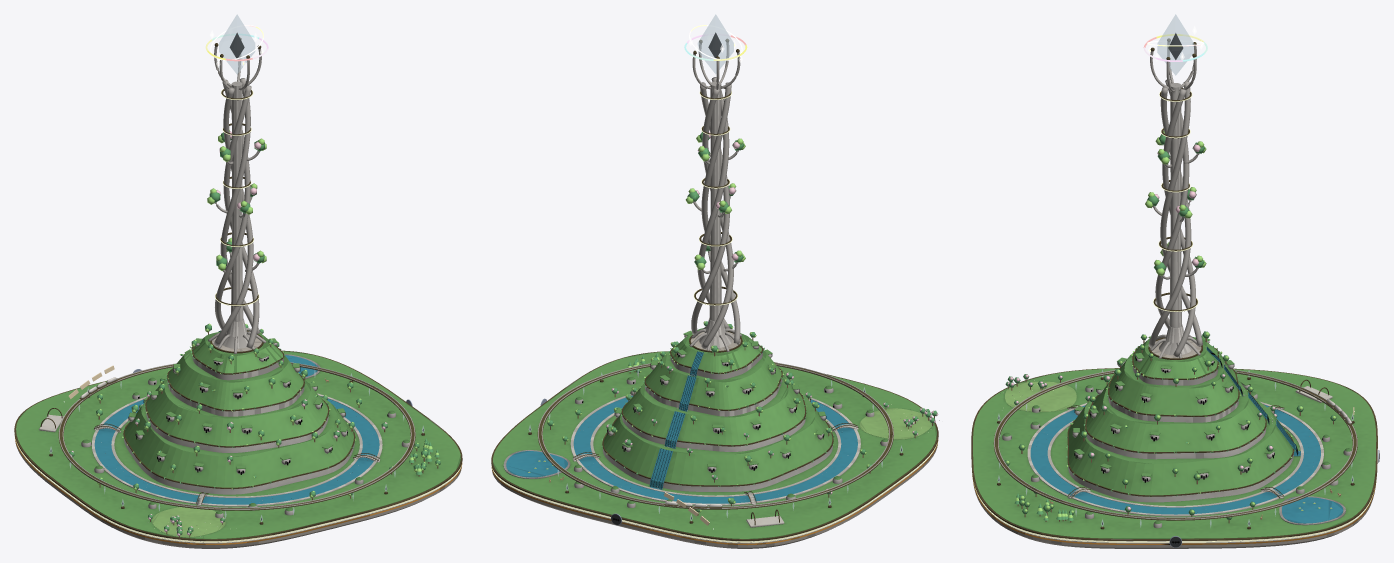
Rendered from SM_Evo_OrbitalCity.fbx.
The picture shows the model from 3 angles, left to right: view 1: azimuth 30°, elevation 25°; view 2: azimuth 150°, elevation 25°; view 3: azimuth 270°, elevation 25°; orthographic projection. The views are drawn at different scales.
Parts seen in each view (by area): view 1: SMN_Evo_OrbitalCity, Emblem_Fx_OrbitalCity; view 2: SMN_Evo_OrbitalCity, Emblem_Fx_OrbitalCity; view 3: SMN_Evo_OrbitalCity, Emblem_Fx_OrbitalCity.
Boxes of the visible parts, x1,y1,x2,y2 form: SMN_Evo_OrbitalCity: (14,38,462,548); Emblem_Fx_OrbitalCity: (15,14,461,542); SMN_Evo_OrbitalCity: (491,39,938,548); Emblem_Fx_OrbitalCity: (492,14,939,542); SMN_Evo_OrbitalCity: (971,38,1379,548); Emblem_Fx_OrbitalCity: (974,14,1379,543).
Bounding box in the file's own units: 4.78 × 5.84 × 4.78.
